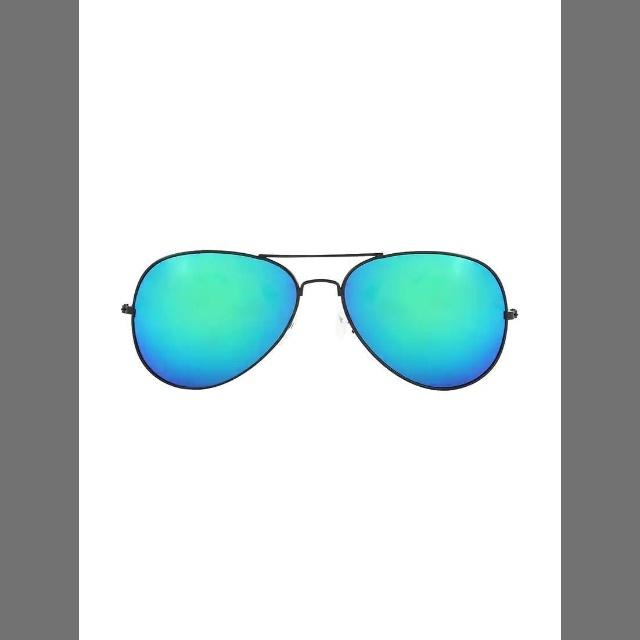Sunglasses: (97, 220, 531, 436)
